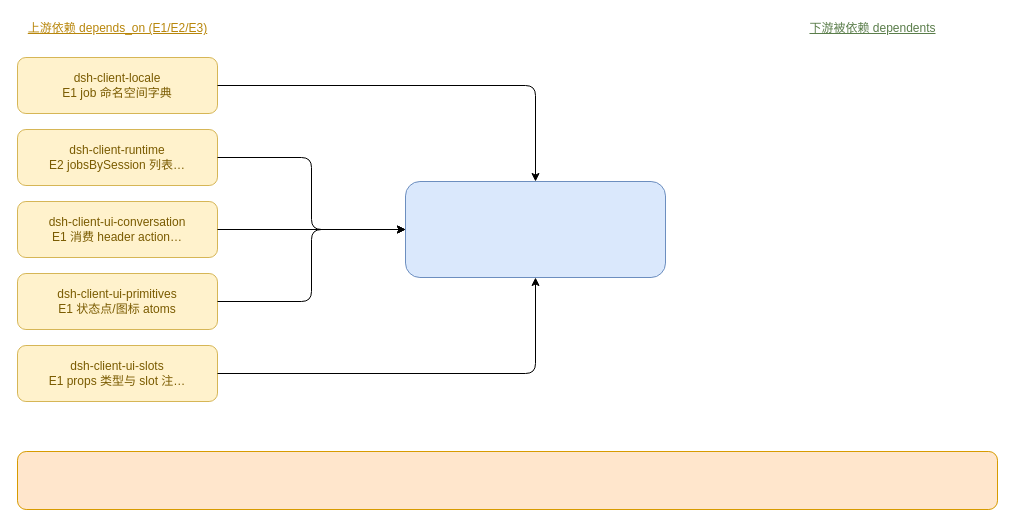
Some shapes in this 1015 by 527 pixel diagram are drawn without their labels. Here are the shapes that lost their labels. From the top down, the centre of each, then its label:
At point (535, 229): "dsh-client-ui-jobs @deepseek-ai/dsh-client-ui-jobs".
At point (507, 480): "provides 关键项 • conversation.session.header.actions id=job-list（JobListAction）".
